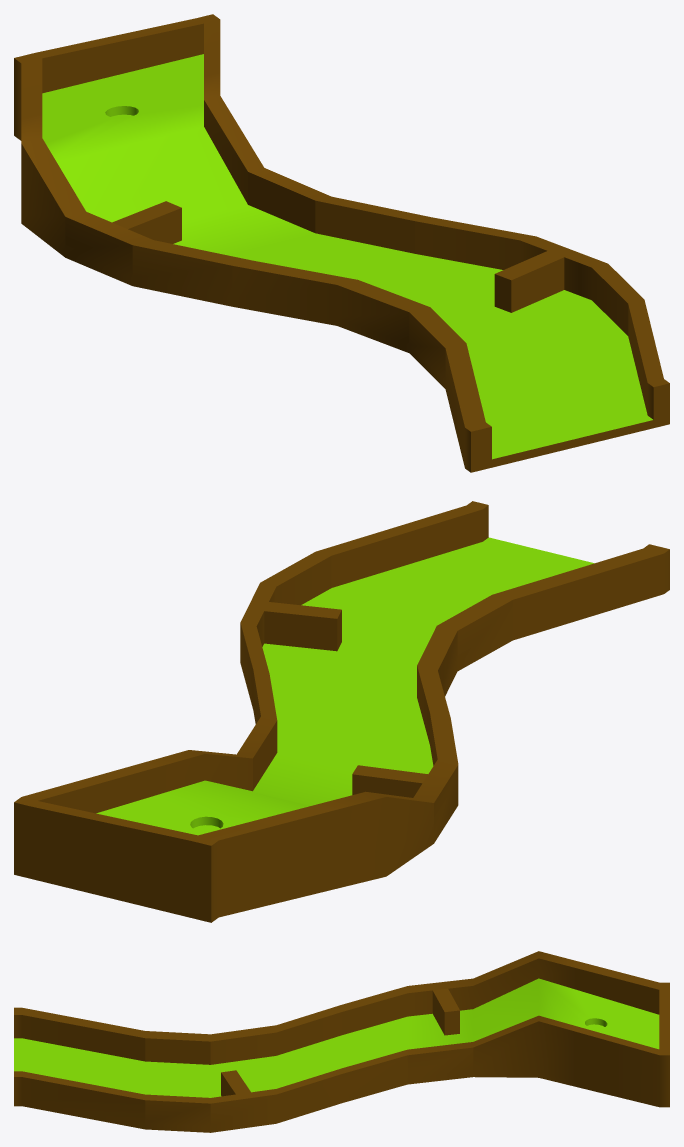
Rendered from Hole4.fbx.
3 renders of one model, top to bottom at view 1: azimuth 30°, elevation 25°; view 2: azimuth 150°, elevation 25°; view 3: azimuth 270°, elevation 25°, orthographic. The views are drawn at different scales.
Parts seen in each view (by area): view 1: pCube4; view 2: pCube4; view 3: pCube4.
Boxes of the visible parts, left/top/right/bottom form: pCube4: left=14, top=14, right=669, bottom=472; pCube4: left=14, top=501, right=669, bottom=922; pCube4: left=14, top=951, right=669, bottom=1132.
Bounding box in the file's own units: 45.11 × 9.66 × 100.
